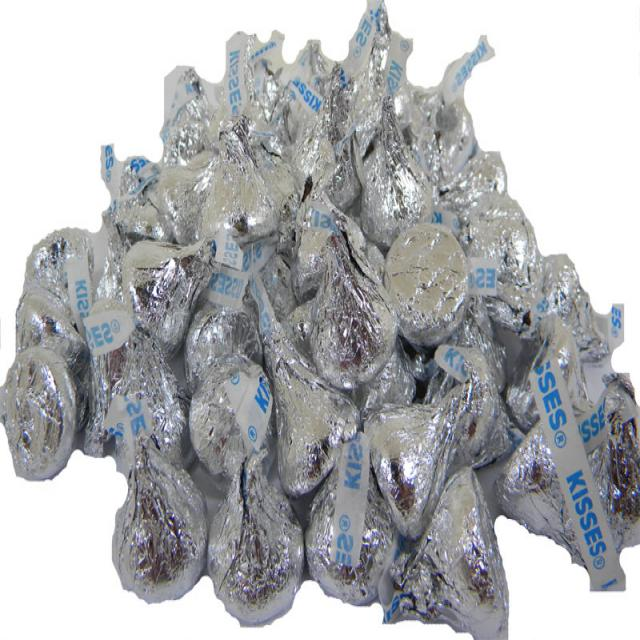kisses: (379, 470, 516, 640), (359, 367, 483, 546), (499, 402, 621, 581), (104, 429, 212, 605), (262, 308, 361, 494), (206, 449, 307, 629), (304, 204, 400, 392), (190, 128, 283, 282), (186, 313, 274, 474), (115, 288, 192, 471), (359, 92, 439, 251), (4, 336, 90, 482), (248, 78, 316, 247), (386, 212, 468, 352), (116, 236, 217, 348), (27, 218, 108, 328), (465, 199, 540, 296)
